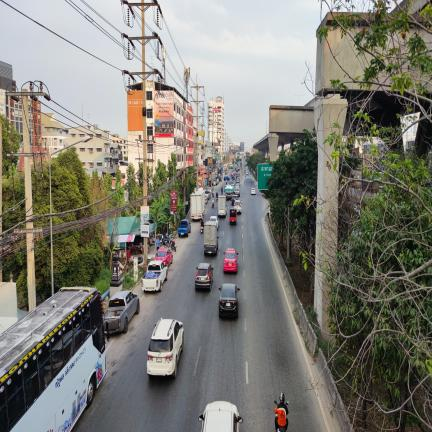bus: (0, 287, 106, 432)
car: (147, 318, 184, 378), (198, 401, 243, 432), (218, 283, 239, 317), (195, 263, 213, 291), (209, 216, 219, 230), (229, 209, 237, 225), (234, 199, 242, 214), (231, 194, 239, 206), (234, 185, 240, 196), (251, 188, 256, 195), (228, 180, 233, 185), (236, 177, 239, 184), (245, 171, 248, 175)
motorbike: (170, 238, 176, 252), (277, 425, 287, 432), (284, 401, 289, 412), (201, 225, 204, 233), (274, 400, 278, 406), (212, 201, 214, 208), (286, 419, 288, 426), (212, 191, 214, 197), (275, 414, 277, 419), (216, 196, 218, 201)
pickup: (104, 291, 140, 333), (141, 261, 168, 292), (178, 219, 191, 237)
taxi: (154, 246, 173, 266), (223, 248, 238, 272)
truck: (190, 188, 205, 220), (204, 221, 218, 255), (218, 195, 227, 217), (225, 184, 234, 200)
